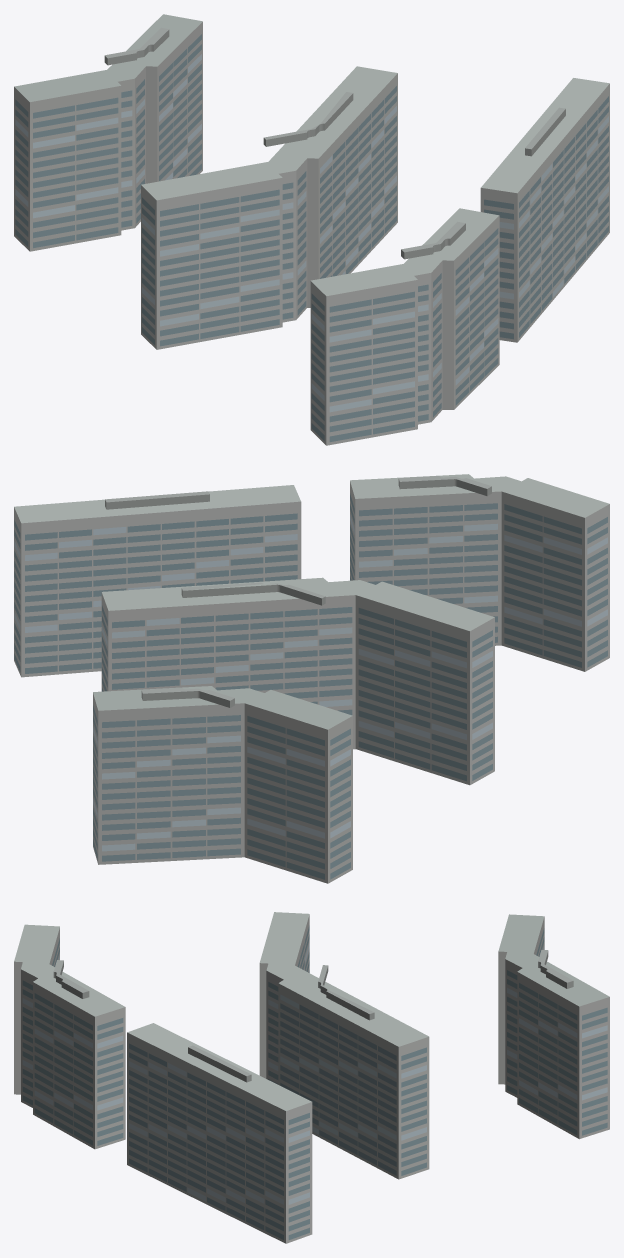
The model's file is apt-a13984411.glb.
3 renders of one model, top to bottom at view 1: azimuth 30°, elevation 25°; view 2: azimuth 150°, elevation 25°; view 3: azimuth 270°, elevation 25°, orthographic. The views are drawn at different scales.
Visible parts, largest first — view 1: apt-a13984411; view 2: apt-a13984411; view 3: apt-a13984411.
Boxes of the visible parts, x1,y1,x2,y2 form: apt-a13984411: [14, 14, 609, 445]; apt-a13984411: [14, 474, 609, 883]; apt-a13984411: [14, 912, 609, 1243].
Bounding box in the file's own units: 126 × 41 × 159.
